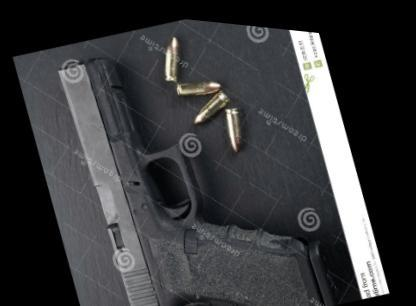pistol: (46, 4, 350, 303)
